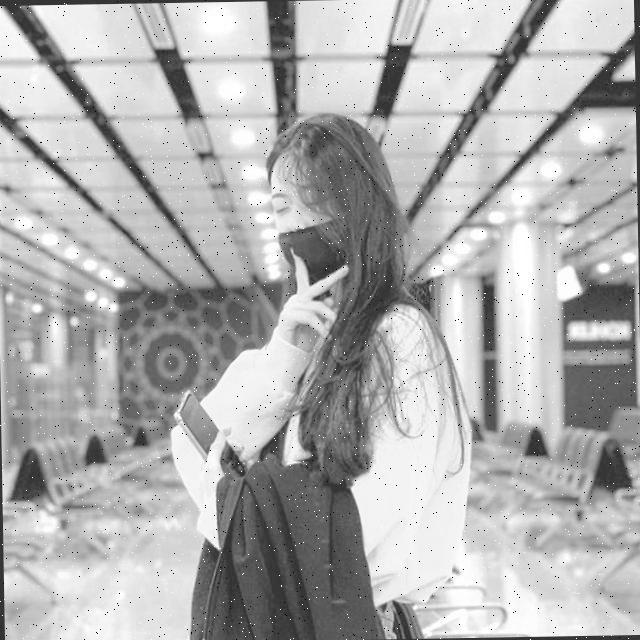no_apron: (263, 258, 351, 336), (192, 423, 248, 510)
